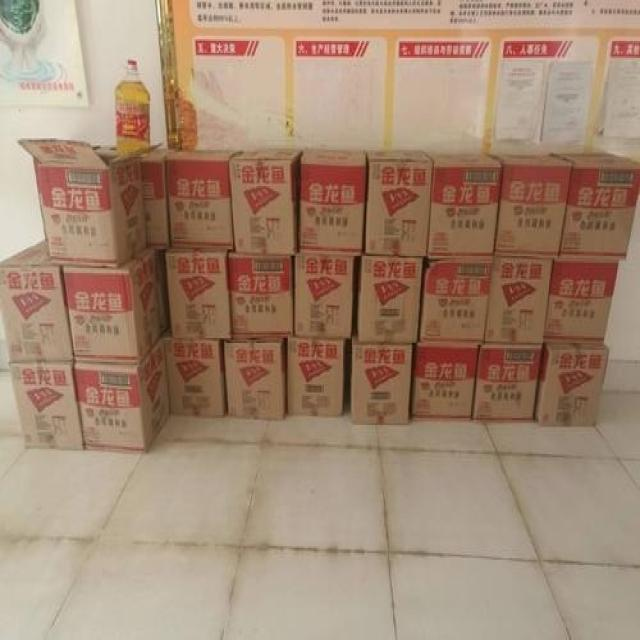box: (17, 140, 146, 267), (62, 248, 162, 365), (73, 336, 170, 452), (550, 154, 639, 260), (484, 153, 572, 257), (0, 240, 74, 362), (425, 153, 502, 260), (228, 149, 303, 255), (166, 150, 245, 249), (362, 150, 433, 257), (298, 148, 365, 256), (9, 362, 84, 450), (543, 257, 620, 342), (534, 340, 610, 426), (348, 322, 412, 423), (165, 247, 232, 338), (418, 260, 493, 341), (484, 256, 553, 344), (357, 252, 423, 344), (409, 341, 484, 420), (163, 326, 227, 417), (227, 252, 294, 338), (294, 251, 360, 338), (472, 342, 542, 419), (224, 338, 286, 420), (286, 335, 345, 416), (140, 140, 177, 250), (155, 251, 170, 330)
